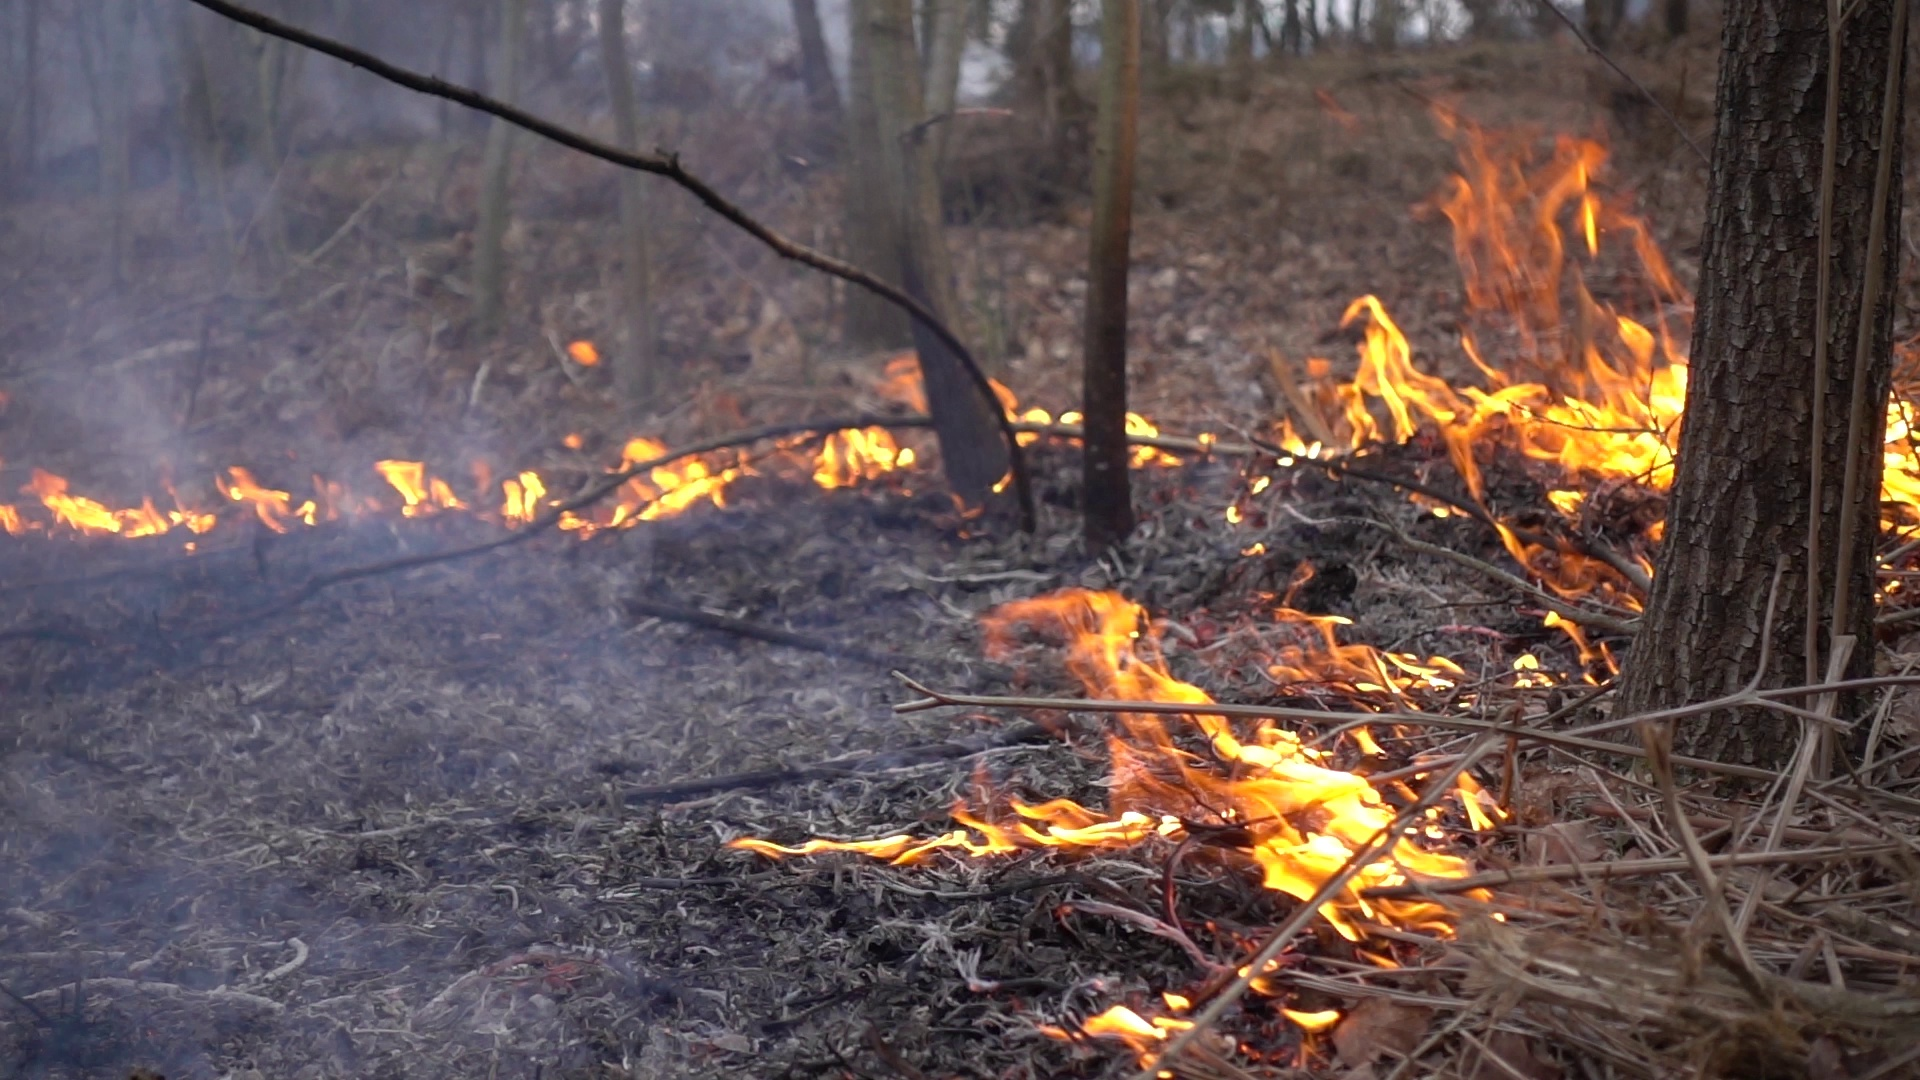fire: (960, 585, 1468, 942), (1321, 132, 1691, 500), (613, 436, 721, 517), (807, 419, 897, 487), (218, 468, 305, 535), (47, 492, 177, 531), (1880, 392, 1920, 502), (378, 455, 429, 512)
